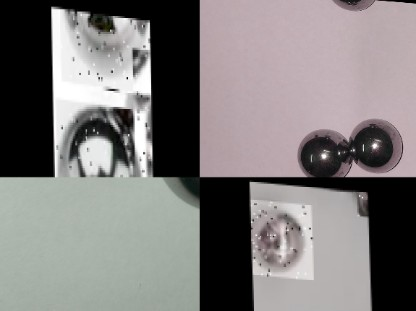ironball: (58, 6, 150, 89), (52, 96, 146, 177), (248, 198, 311, 278), (346, 118, 406, 171), (130, 44, 152, 177), (296, 127, 352, 177), (356, 188, 368, 214)
